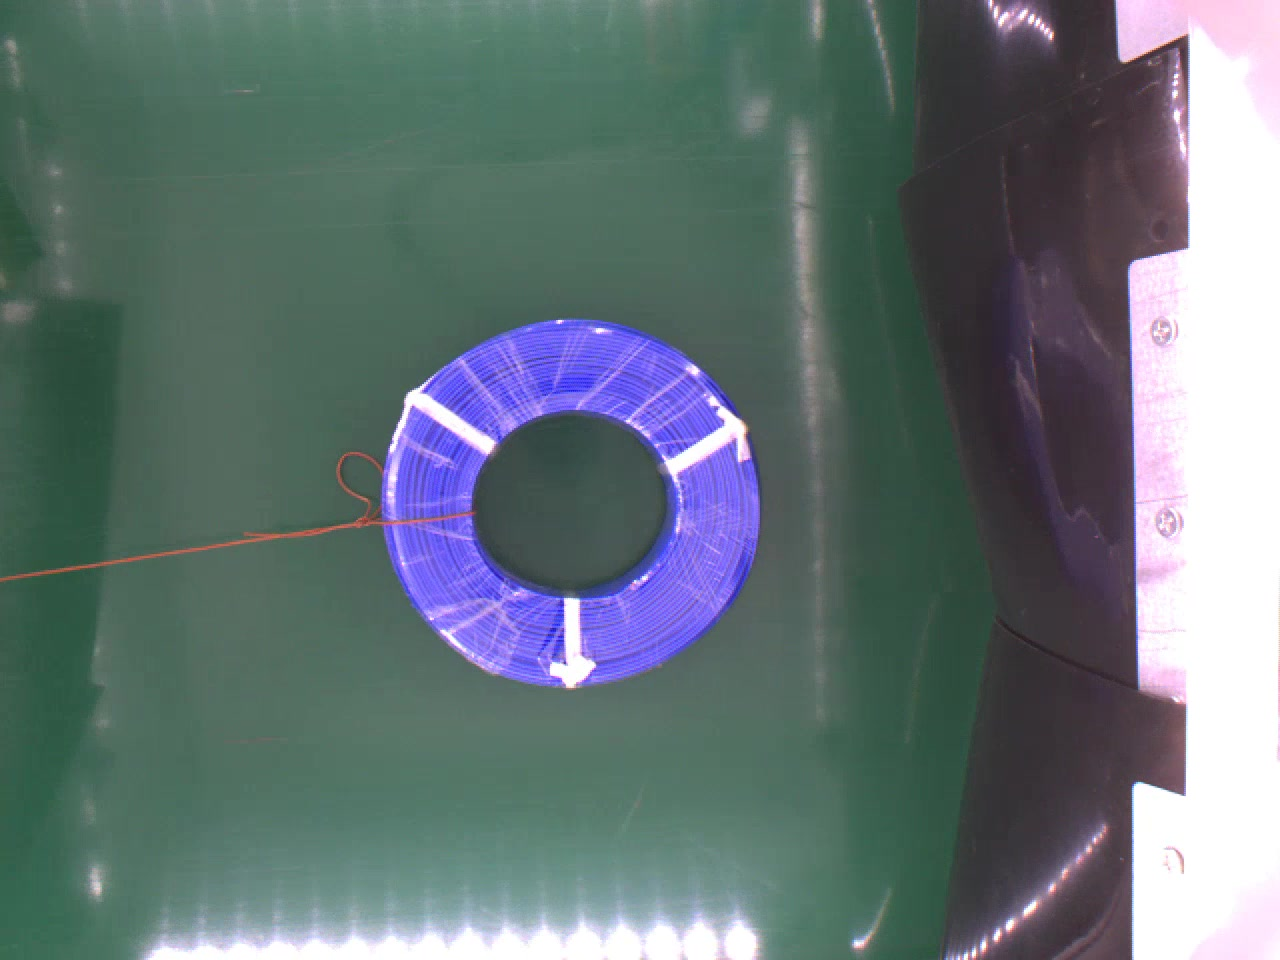blue: (378, 313, 771, 685)
